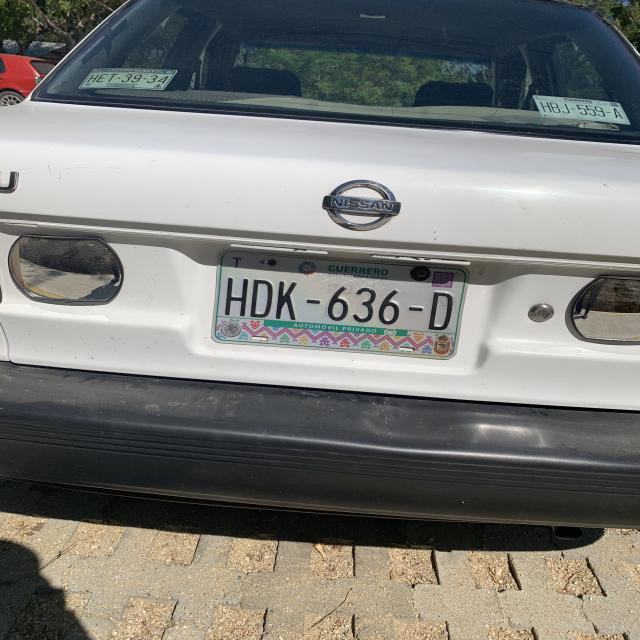placa: (217, 269, 464, 330)
